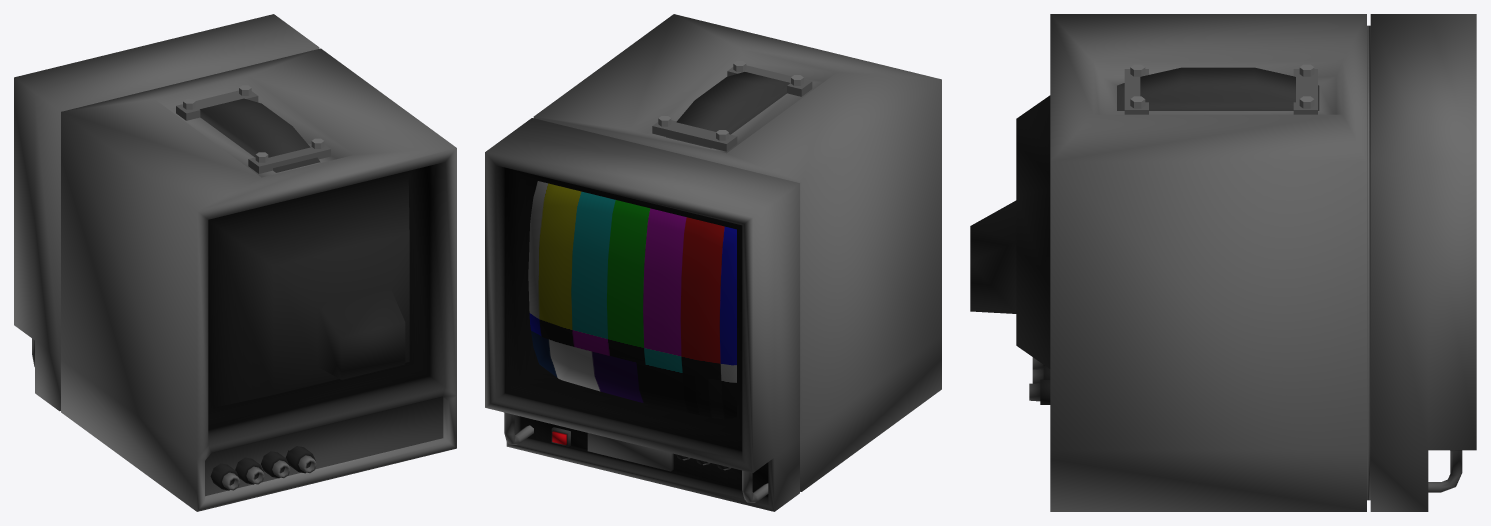
File: crt3_.glb
The picture shows the model from 3 angles, left to right: view 1: azimuth 30°, elevation 25°; view 2: azimuth 150°, elevation 25°; view 3: azimuth 270°, elevation 25°; orthographic projection. The views are drawn at different scales.
Parts seen in each view (by area): view 1: Cube.001, Cube.002, Cube.006, Cube.004, Cube.005; view 2: Cube.001, Cube.003, Cube.002, Cube.006, Cube.005; view 3: Cube.001, Cube.002, Cube.006, Cube.005.
Boxes of the visible parts, left/top/right/bottom form: Cube.001: left=14, top=14, right=456, bottom=511; Cube.002: left=200, top=98, right=443, bottom=496; Cube.006: left=176, top=90, right=330, bottom=173; Cube.004: left=210, top=446, right=315, bottom=490; Cube.005: left=32, top=338, right=316, bottom=490; Cube.001: left=485, top=14, right=941, bottom=511; Cube.003: left=528, top=181, right=736, bottom=419; Cube.002: left=505, top=72, right=790, bottom=496; Cube.006: left=504, top=65, right=812, bottom=471; Cube.005: left=504, top=413, right=768, bottom=502; Cube.001: left=1050, top=14, right=1476, bottom=511; Cube.002: left=970, top=67, right=1319, bottom=368; Cube.006: left=1124, top=69, right=1461, bottom=451; Cube.005: left=1029, top=357, right=1462, bottom=492.
Size of the model in its own units: 2.01 by 2.27 by 2.91.
7 materials, 1 textured.
